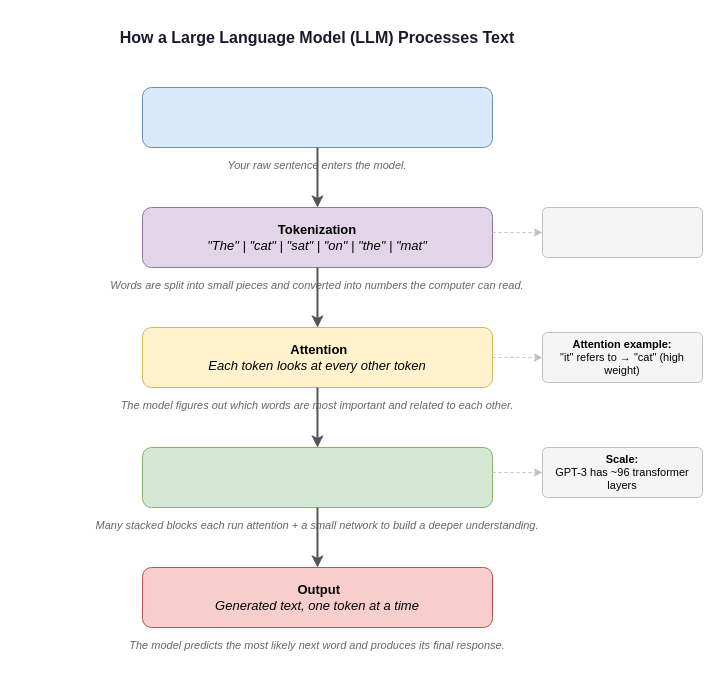
This 720x674 diagram has some shape labels left out. The shapes that lost their labels are listed below. From the top down, each one's centre as x and y in pixels, then its label:
pixel 317 117: Input Text e.g. "The cat sat on the mat"
pixel 622 232: Token example: "playing" → "play" + "ing"
pixel 317 477: Transformer Layers Block 1 → Block 2 → Block 3 → … → Block N
